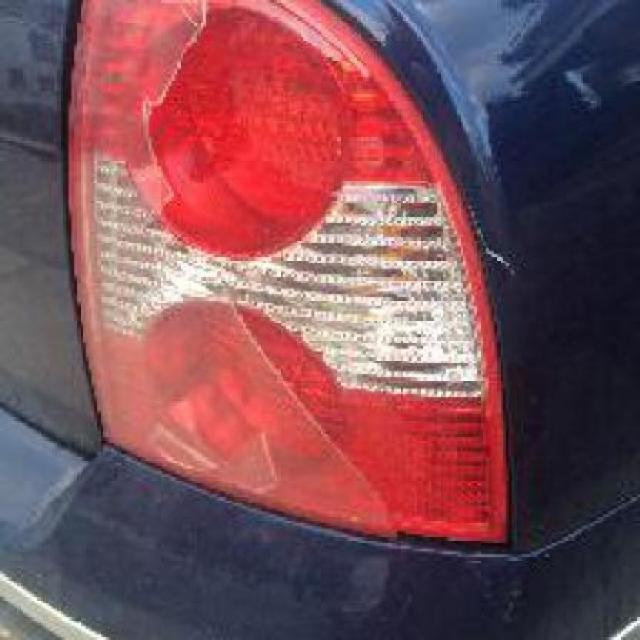damaged-tail-light: (64, 0, 524, 562)
